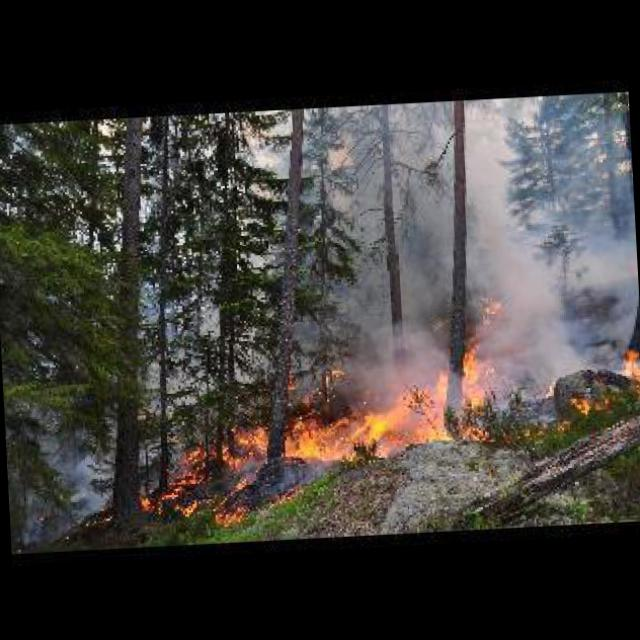fire: (128, 301, 518, 525)
